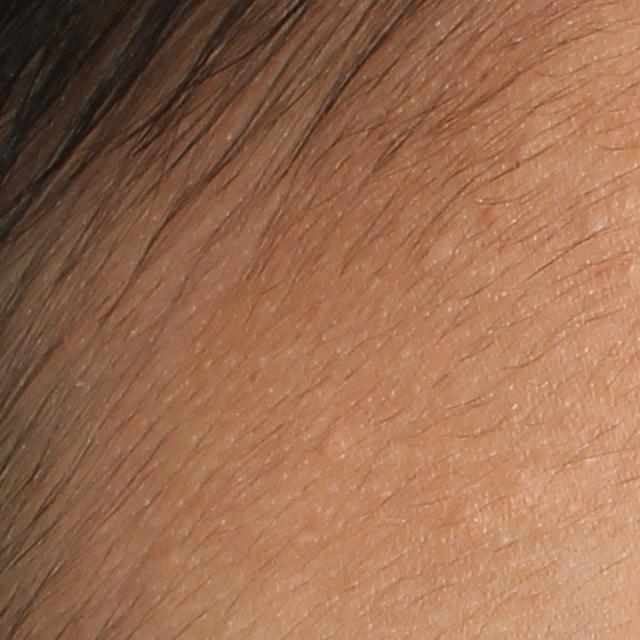comedo: (307, 417, 355, 467), (444, 495, 485, 541), (413, 237, 456, 275)
